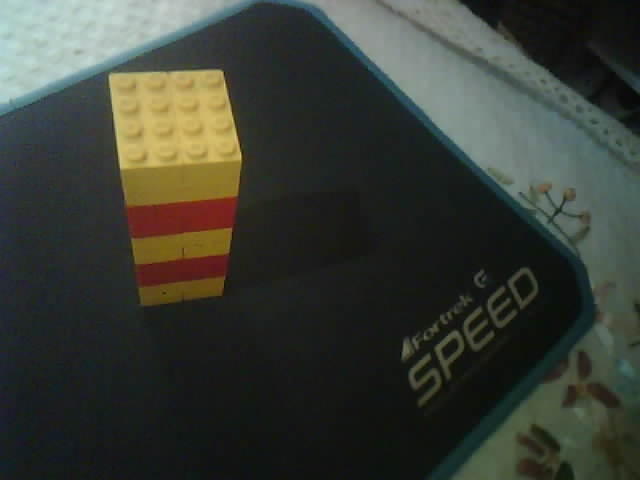lego: (107, 66, 244, 309)
